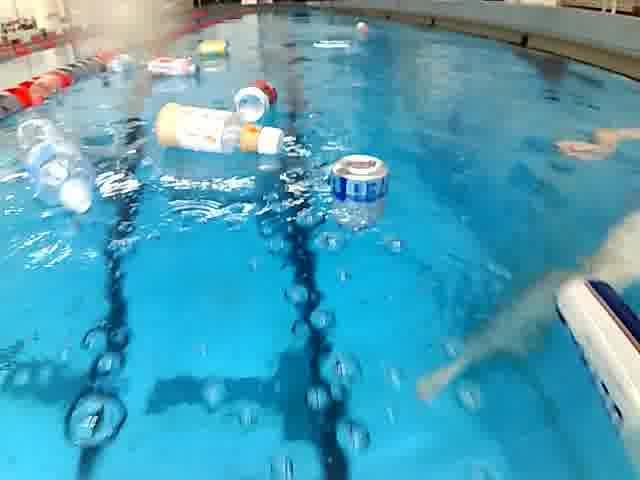Bottle: (11, 116, 102, 218), (150, 102, 292, 166), (146, 54, 200, 84)
Can: (540, 271, 640, 464), (326, 146, 394, 252), (230, 75, 284, 129), (193, 33, 235, 64)
